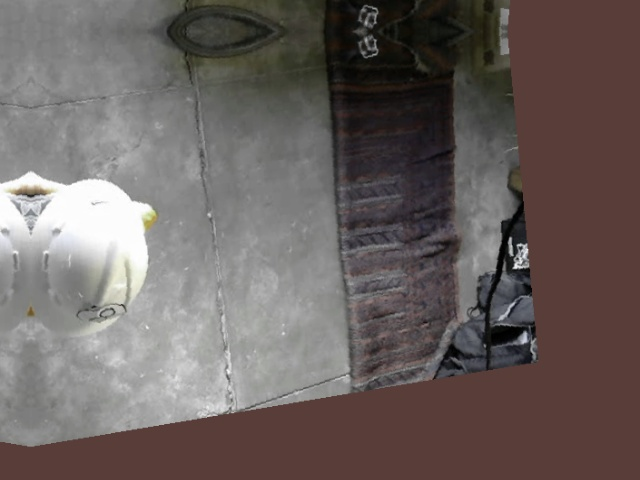eight: (73, 298, 129, 326)
